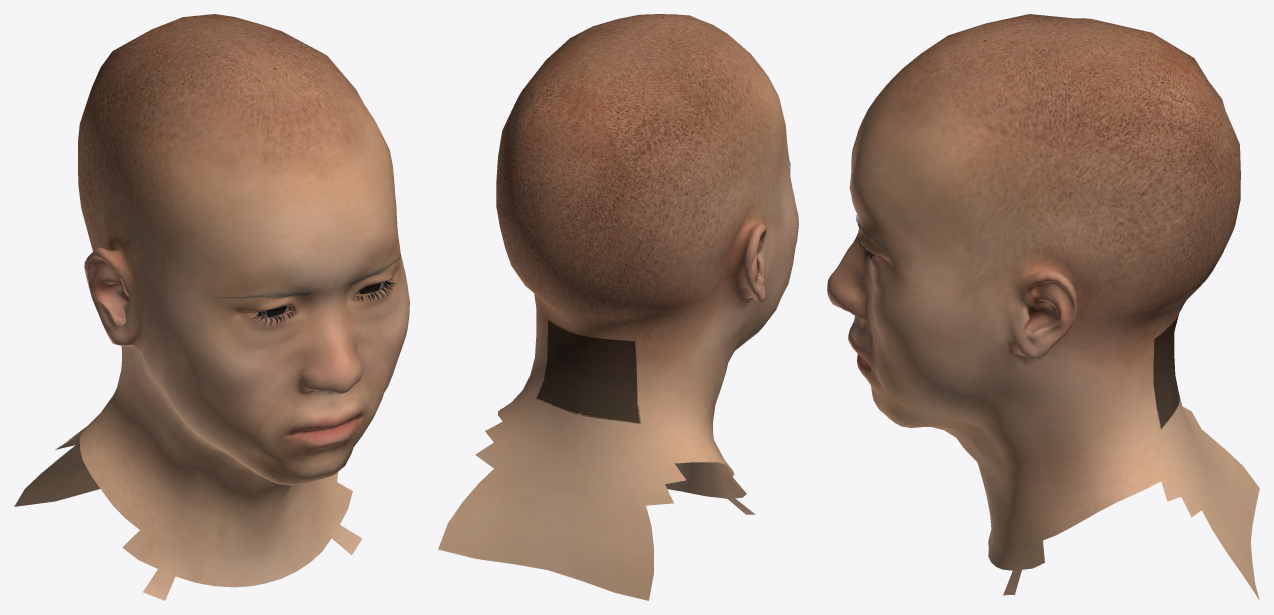
Rendered from patient05.glb.
3 views of the same model, side by side, from view 1: azimuth 30°, elevation 25°; view 2: azimuth 150°, elevation 25°; view 3: azimuth 270°, elevation 25° (orthographic). The views are drawn at different scales.
Parts seen in each view (by area): view 1: kim_sajang.body, kim_sajang.eyebrow001, kim_sajang.eyelashes01; view 2: kim_sajang.body; view 3: kim_sajang.body.
Part boxes in pixels (box(x1,y1,x2,y2)): kim_sajang.body: box(14, 14, 409, 600); kim_sajang.eyebrow001: box(220, 254, 400, 298); kim_sajang.eyelashes01: box(252, 281, 396, 325); kim_sajang.body: box(438, 14, 798, 600); kim_sajang.body: box(827, 14, 1259, 600).
Bounding box in the file's own units: 0.1679 × 0.2997 × 0.2265.
Materials: 7 (6 with a texture image).
